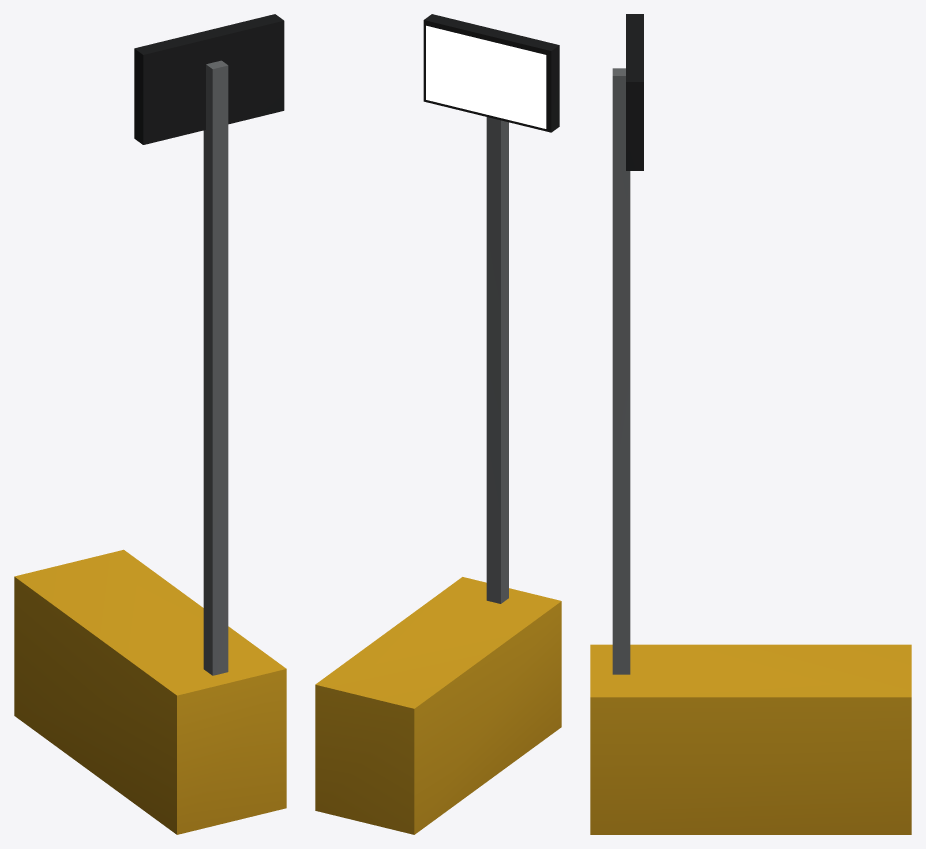
Rendered from floodlight_lod1.glb.
3 renders of one model, left to right at view 1: azimuth 30°, elevation 25°; view 2: azimuth 150°, elevation 25°; view 3: azimuth 270°, elevation 25°, orthographic. The views are drawn at different scales.
Parts seen in each view (by area): view 1: tower; view 2: tower, lamps; view 3: tower.
Part boxes in pixels (x1,y1,x2,y2): tower: (14,14,286,834); tower: (315,14,561,834); lamps: (426,25,546,128); tower: (590,14,911,834).
Bounding box in the file's own units: 1.8 × 9.4 × 3.6.
